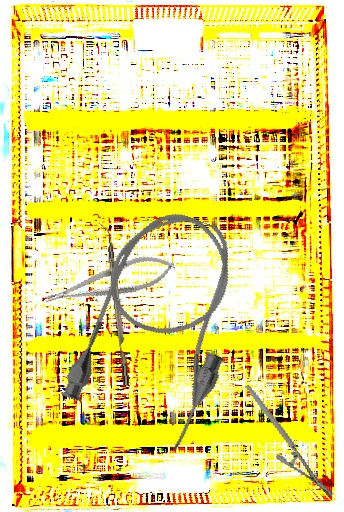Cannula: (55, 196, 267, 456)
Chopper: (98, 221, 130, 388)
Needle Holder: (245, 370, 334, 511), (40, 248, 179, 315)
